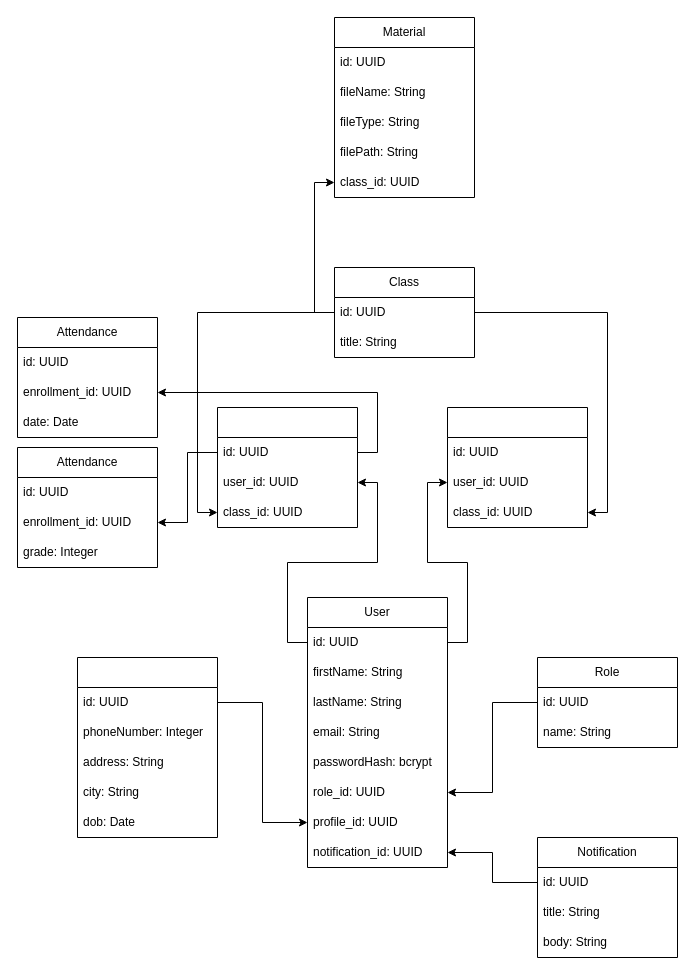
Some shapes in this 695 by 975 pixel diagram are drawn without their labels. Each missing label, with the box of its shape:
ClassAssignment: (446, 406, 588, 528)
Enrollment: (216, 406, 358, 528)
Profile: (76, 656, 218, 838)
